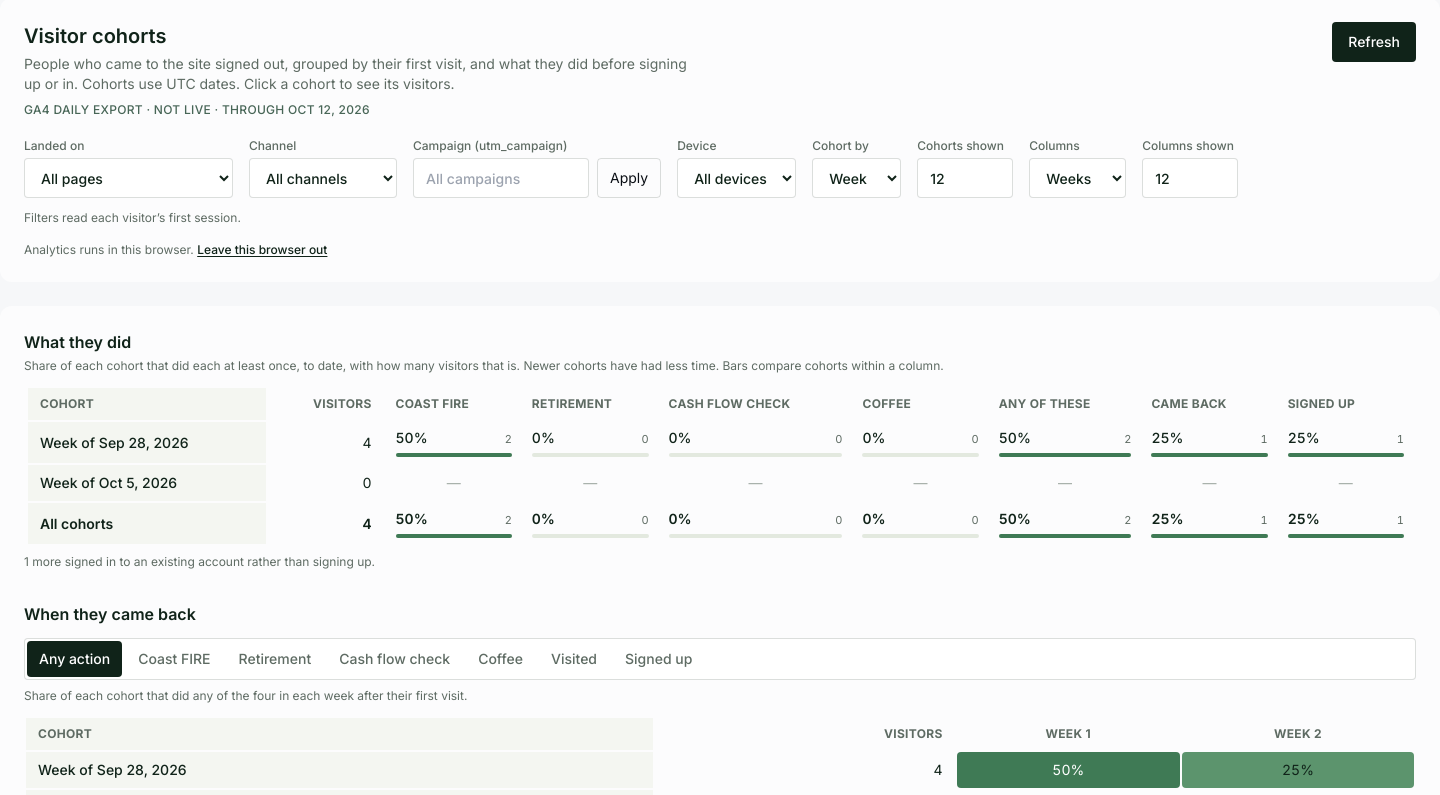
Test case: VisitorCohortPanel › says when a cohort’s visitors could not be loaded
Click the 1st button "Week of Sep 28, 2026".
click(147, 442)  # box [32,428,262,456]
(page scrolled)
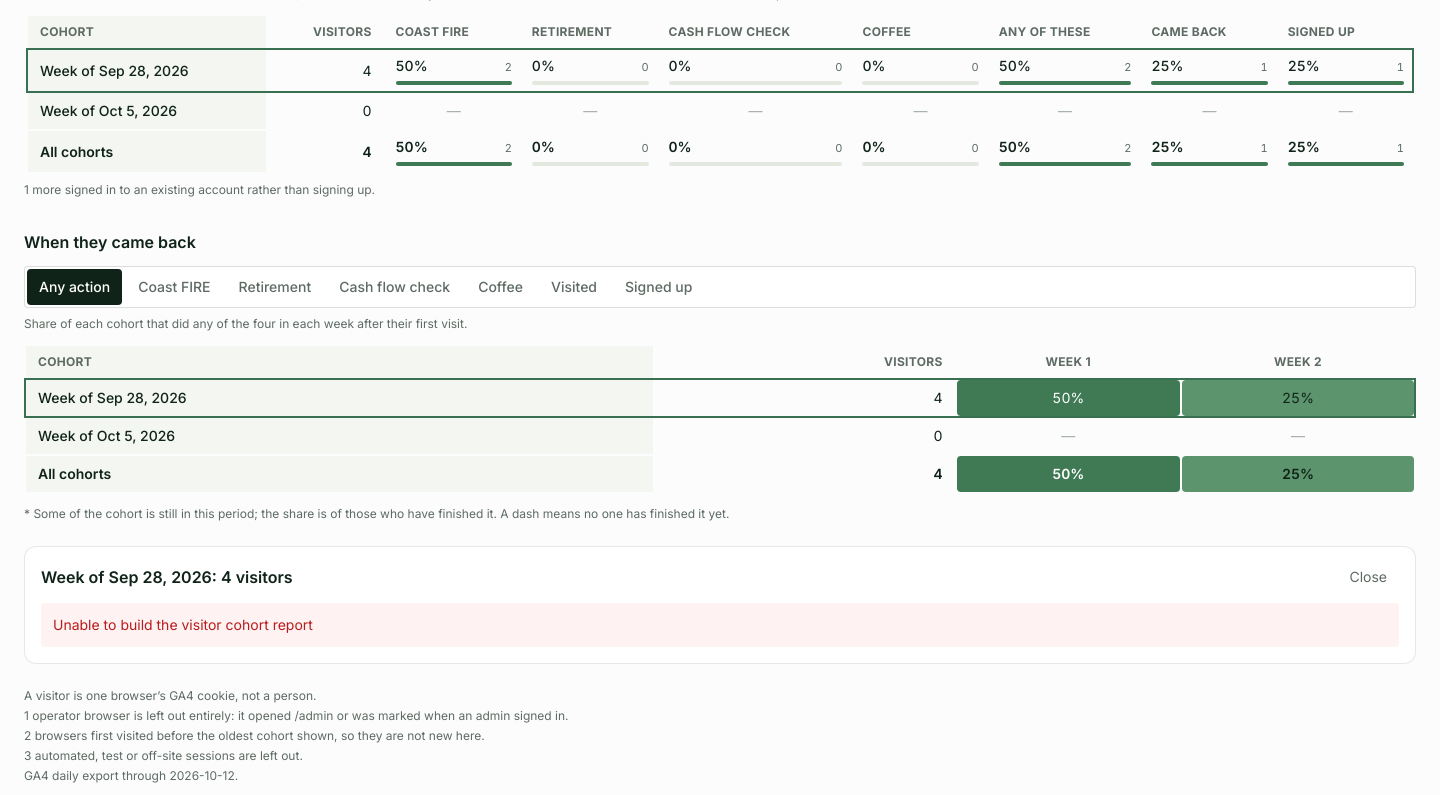
expect the text "Unable to build the visitor cohort report" is shown: met, box [41,603,1399,647]
